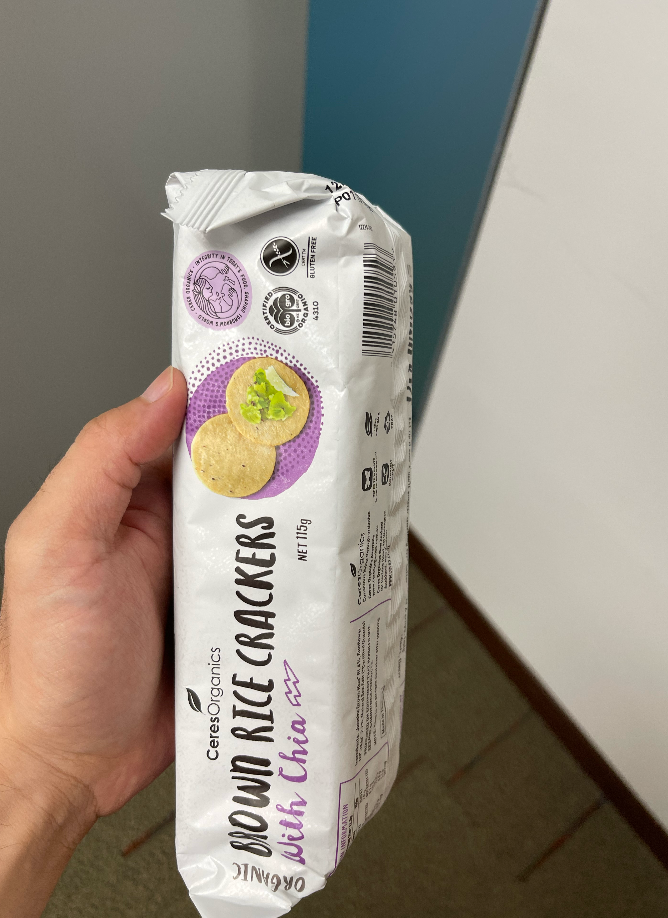crackers_100g-199g: (177, 205, 403, 889)
